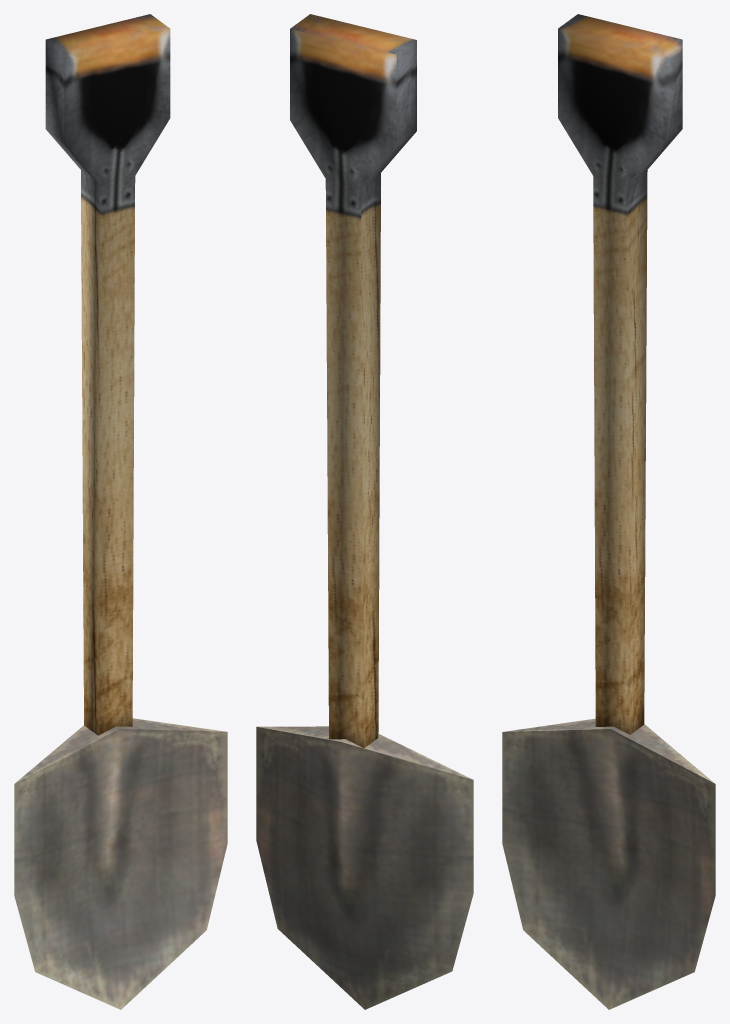
File: shovel.FBX
The picture shows the model from 3 angles, left to right: view 1: azimuth 30°, elevation 25°; view 2: azimuth 150°, elevation 25°; view 3: azimuth 330°, elevation 25°; orthographic projection.
Parts seen in each view (by area): view 1: shovel; view 2: shovel; view 3: shovel.
Boxes of the visible parts, x1,y1,x2,y2 form: shovel: (14, 14, 227, 1009); shovel: (256, 14, 473, 1009); shovel: (502, 14, 715, 1009).
Bounding box in the file's own units: 13.36 × 57.91 × 2.49.
